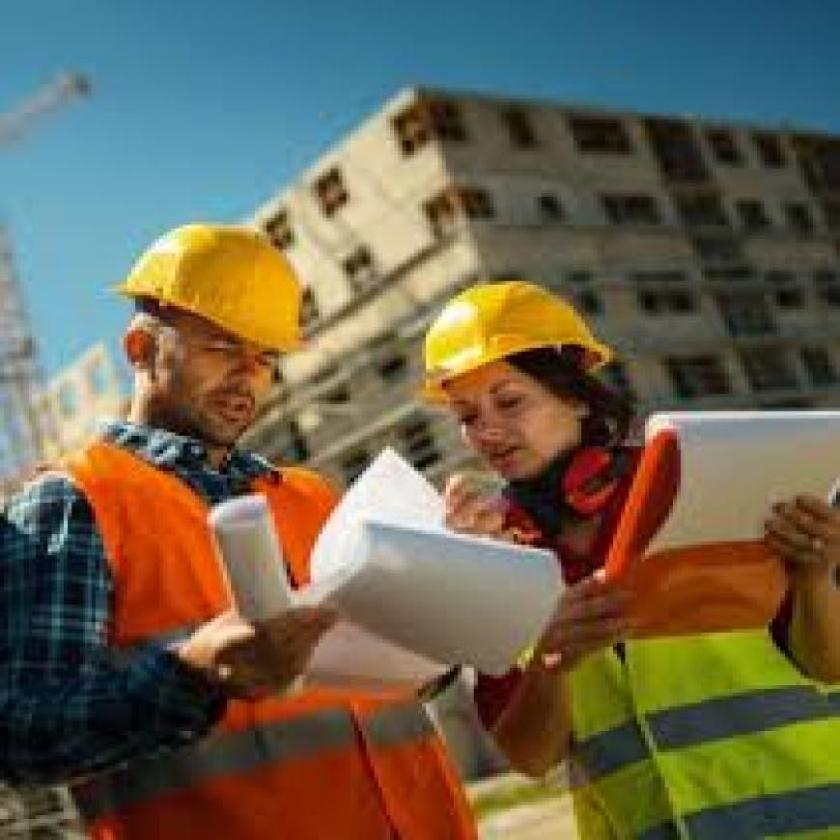Con_casco: (115, 214, 313, 463), (422, 276, 616, 486)
